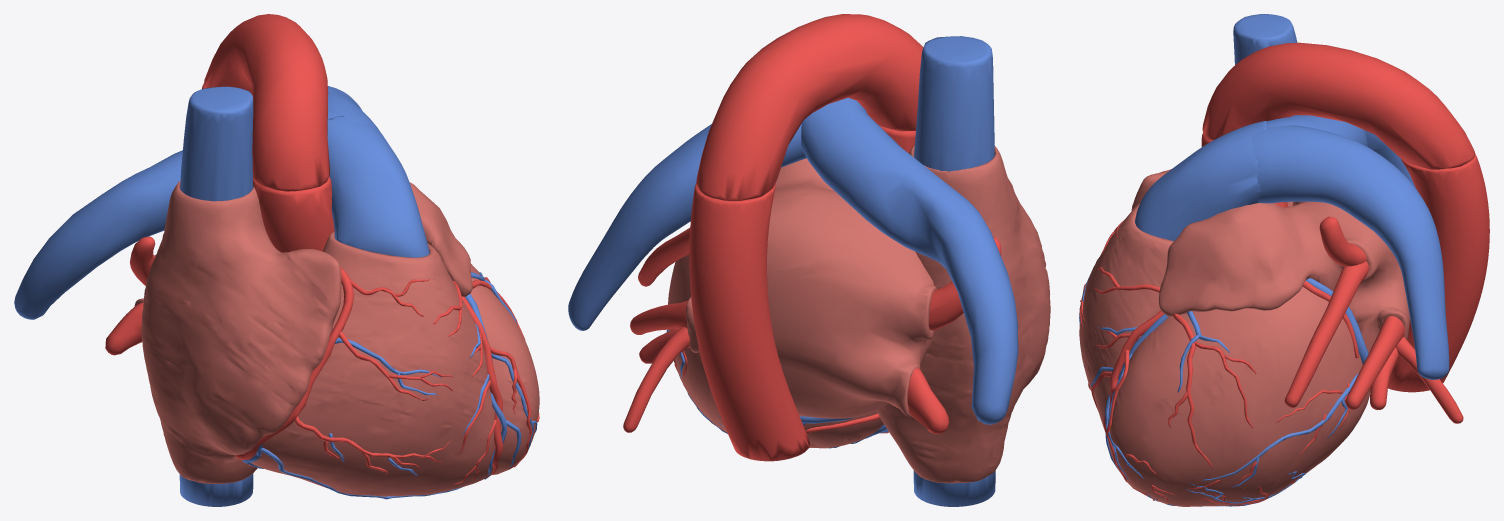
Rendered from heart.glb.
3 views of the same model, side by side, from view 1: azimuth 30°, elevation 25°; view 2: azimuth 150°, elevation 25°; view 3: azimuth 270°, elevation 25° (orthographic). The views are drawn at different scales.
Visible parts, largest first — view 1: ventricle_wall_myocardium, right_atrium_wall, aorta, pulmonary_artery_right, pulmonary_trunk, superior_vena_cava, coronary_artery_right, cardiac_veins_coronary_sinus, coronary_artery_left, left_atrium_wall, pulmonary_veins, inferior_vena_cava (+1 smaller); view 2: aorta, left_atrium_wall, pulmonary_artery_right, right_atrium_wall, pulmonary_artery_left, superior_vena_cava, pulmonary_veins, ventricle_wall_myocardium, inferior_vena_cava, cardiac_veins_coronary_sinus; view 3: ventricle_wall_myocardium, aorta, left_atrium_wall, pulmonary_artery_left, pulmonary_trunk, pulmonary_veins, coronary_artery_left, cardiac_veins_coronary_sinus, superior_vena_cava, pulmonary_artery_right, coronary_artery_right.
Part boxes in pixels (<box>): ventricle_wall_myocardium: <box>243,231,539,496</box>; right_atrium_wall: <box>141,180,341,483</box>; aorta: <box>202,14,334,252</box>; pulmonary_artery_right: <box>14,108,338,319</box>; pulmonary_trunk: <box>327,116,429,257</box>; superior_vena_cava: <box>180,86,253,201</box>; coronary_artery_right: <box>235,266,500,474</box>; cardiac_veins_coronary_sinus: <box>242,272,537,499</box>; coronary_artery_left: <box>433,277,539,485</box>; left_atrium_wall: <box>134,182,472,305</box>; pulmonary_veins: <box>105,236,155,355</box>; inferior_vena_cava: <box>179,473,253,506</box>; aorta: <box>689,14,923,461</box>; left_atrium_wall: <box>685,158,936,418</box>; pulmonary_artery_right: <box>801,97,1018,424</box>; right_atrium_wall: <box>877,145,1050,483</box>; pulmonary_artery_left: <box>568,123,806,330</box>; superior_vena_cava: <box>914,36,994,171</box>; pulmonary_veins: <box>623,227,1001,433</box>; ventricle_wall_myocardium: <box>668,254,883,448</box>; inferior_vena_cava: <box>913,470,995,506</box>; cardiac_veins_coronary_sinus: <box>666,329,888,448</box>; ventricle_wall_myocardium: <box>1079,202,1370,506</box>; aorta: <box>1201,42,1489,392</box>; left_atrium_wall: <box>1158,201,1410,353</box>; pulmonary_artery_left: <box>1252,125,1449,379</box>; pulmonary_trunk: <box>1135,121,1266,240</box>; pulmonary_veins: <box>1284,216,1463,423</box>; coronary_artery_left: <box>1091,266,1358,502</box>; cardiac_veins_coronary_sinus: <box>1079,275,1368,506</box>; superior_vena_cava: <box>1233,14,1297,115</box>; pulmonary_artery_right: <box>1266,115,1415,187</box>; coronary_artery_right: <box>1079,219,1296,506</box>.
Bounding box in the file's own units: 1.97 × 2 × 1.84.
